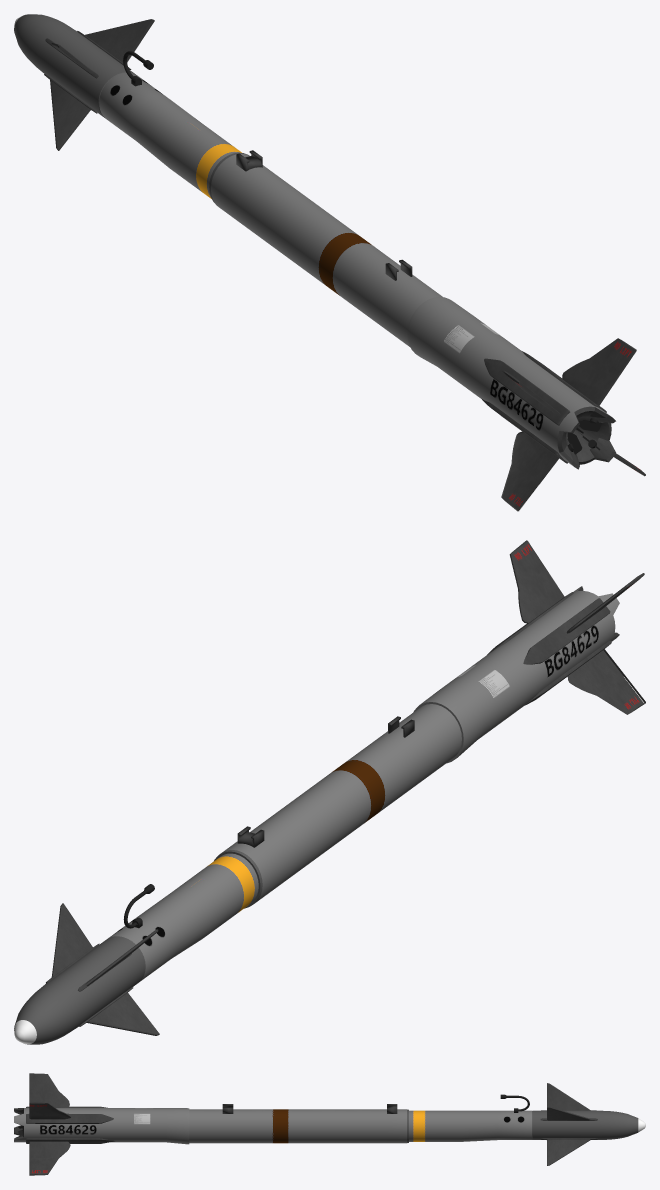
Rendered from aim9x.glb.
3 views of the same model, one above another, from view 1: azimuth 30°, elevation 25°; view 2: azimuth 150°, elevation 25°; view 3: azimuth 270°, elevation 25° (orthographic). The views are drawn at different scales.
Parts seen in each view (by area): view 1: aim9x_body; view 2: aim9x_body; view 3: aim9x_body.
Boxes of the visible parts, box(x1,y1,x2,y2) form: aim9x_body: box(14, 14, 645, 511); aim9x_body: box(14, 540, 645, 1044); aim9x_body: box(14, 1073, 645, 1175).
Size of the model in its own units: 0.3761 by 0.3726 by 2.92.
2 materials, 2 textured.
